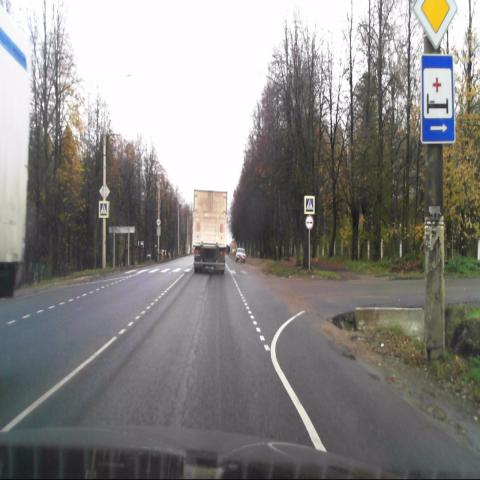7_2: (423, 56, 455, 145)
